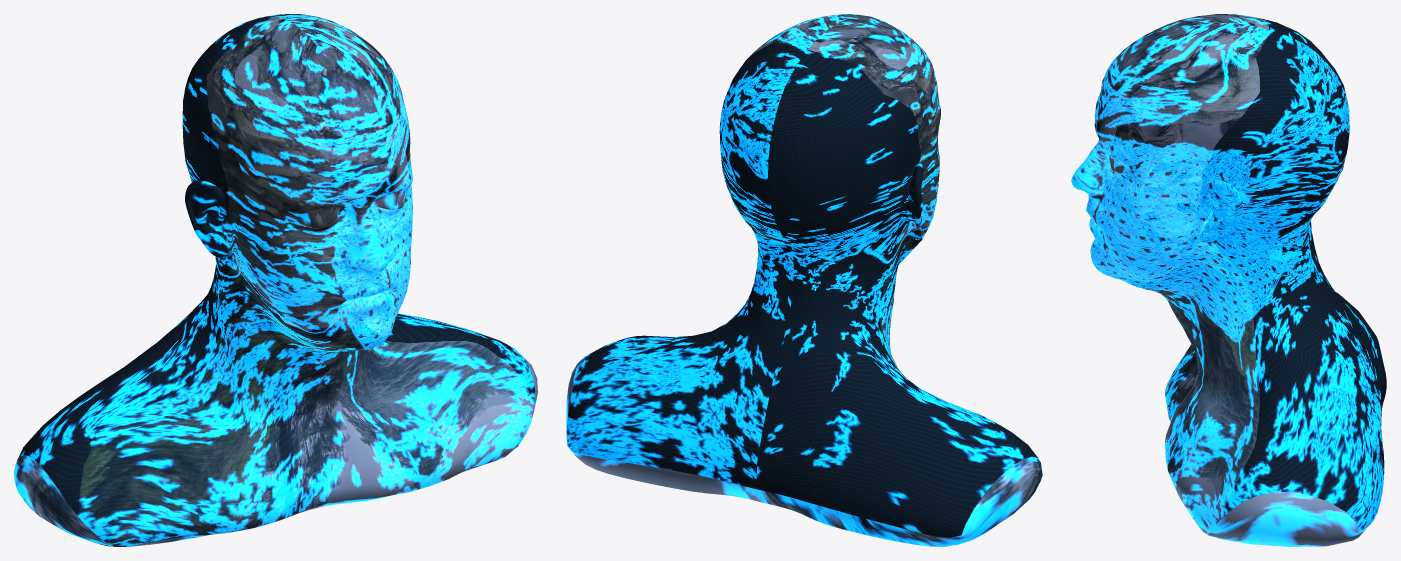
File: holo_1768492209459.glb
3 views of the same model, side by side, from view 1: azimuth 30°, elevation 25°; view 2: azimuth 150°, elevation 25°; view 3: azimuth 270°, elevation 25° (orthographic). The views are drawn at different scales.
Parts seen in each view (by area): view 1: LeePerrySmith; view 2: LeePerrySmith; view 3: LeePerrySmith.
Boxes of the visible parts, bbox=[...] form: LeePerrySmith: bbox=[14, 14, 537, 546]; LeePerrySmith: bbox=[566, 14, 1042, 546]; LeePerrySmith: bbox=[1071, 14, 1386, 546].
Size of the model in its own units: 8.55 by 7.95 by 5.18.
Materials: 1 (1 with a texture image).
